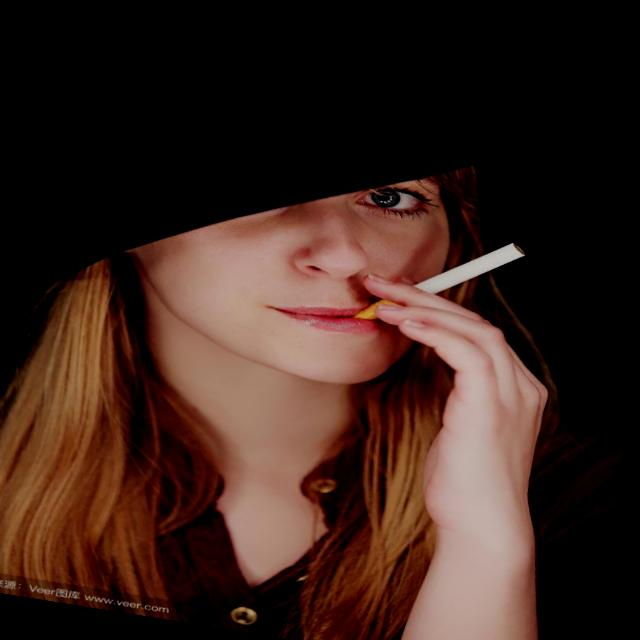cigarette: (356, 218, 529, 352)
